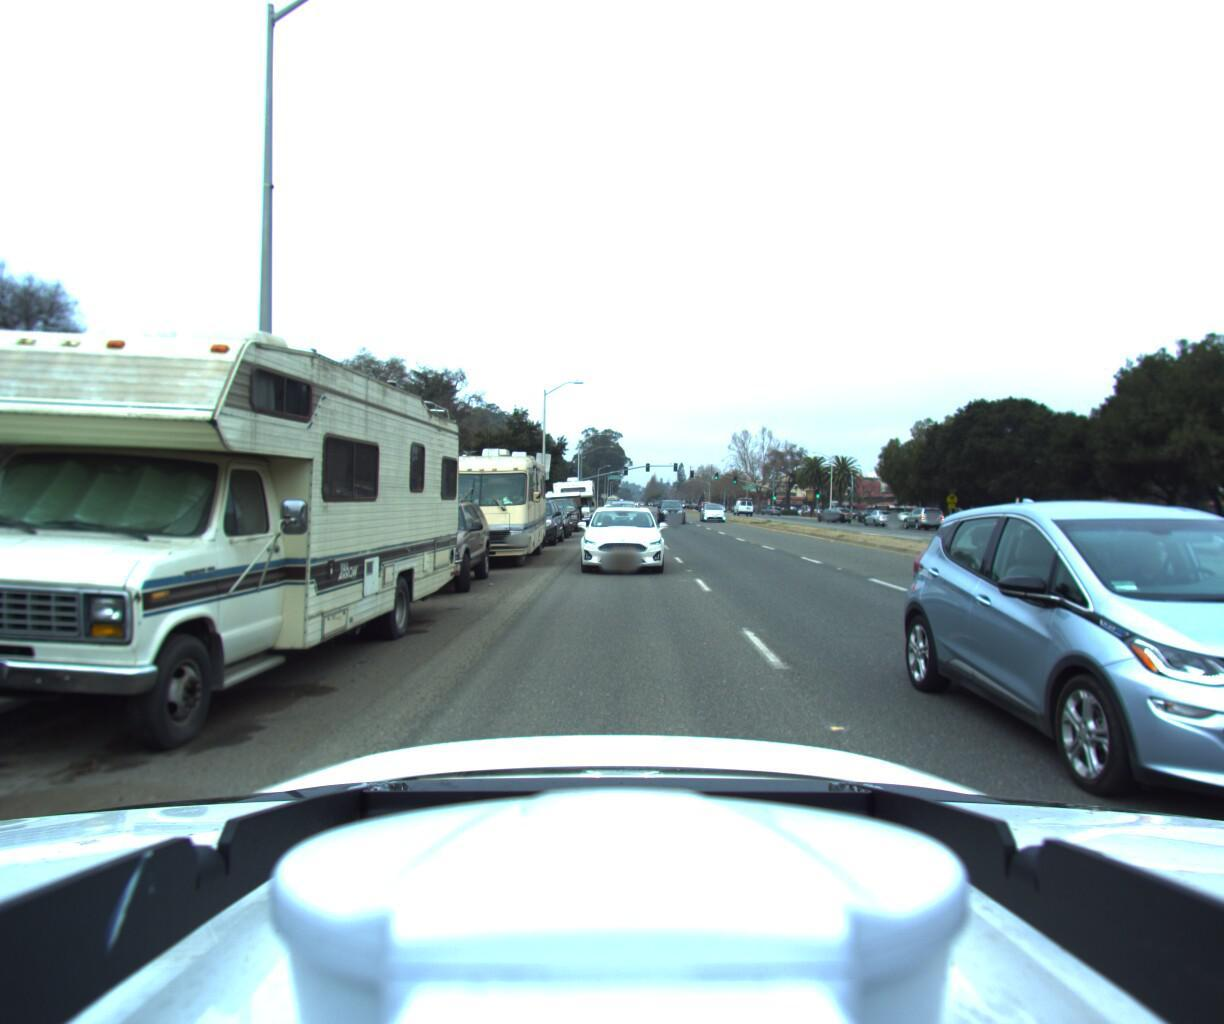car: (957, 501, 1224, 1024), (350, 494, 494, 599), (567, 503, 663, 575), (1119, 515, 1224, 552), (495, 496, 567, 549), (532, 489, 584, 533), (524, 504, 571, 540), (958, 508, 1017, 533), (598, 497, 634, 530), (898, 503, 944, 529), (659, 500, 688, 523), (862, 508, 897, 526), (700, 500, 728, 521), (818, 507, 847, 521)
other_vehicle: (0, 222, 471, 770), (413, 439, 554, 571), (547, 476, 596, 527)
